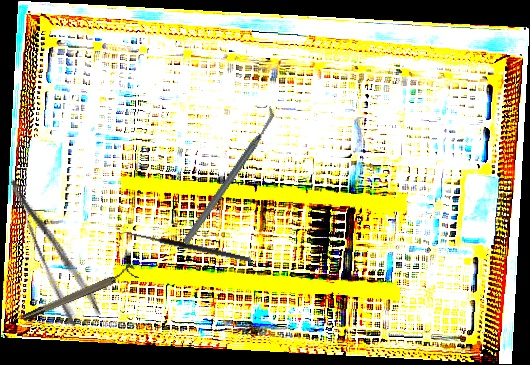Chopper: (147, 105, 310, 246)
Dressing Forceps: (6, 167, 103, 329)
Fixation Ring: (19, 262, 139, 324)
Hook Surgical: (119, 229, 252, 269)
